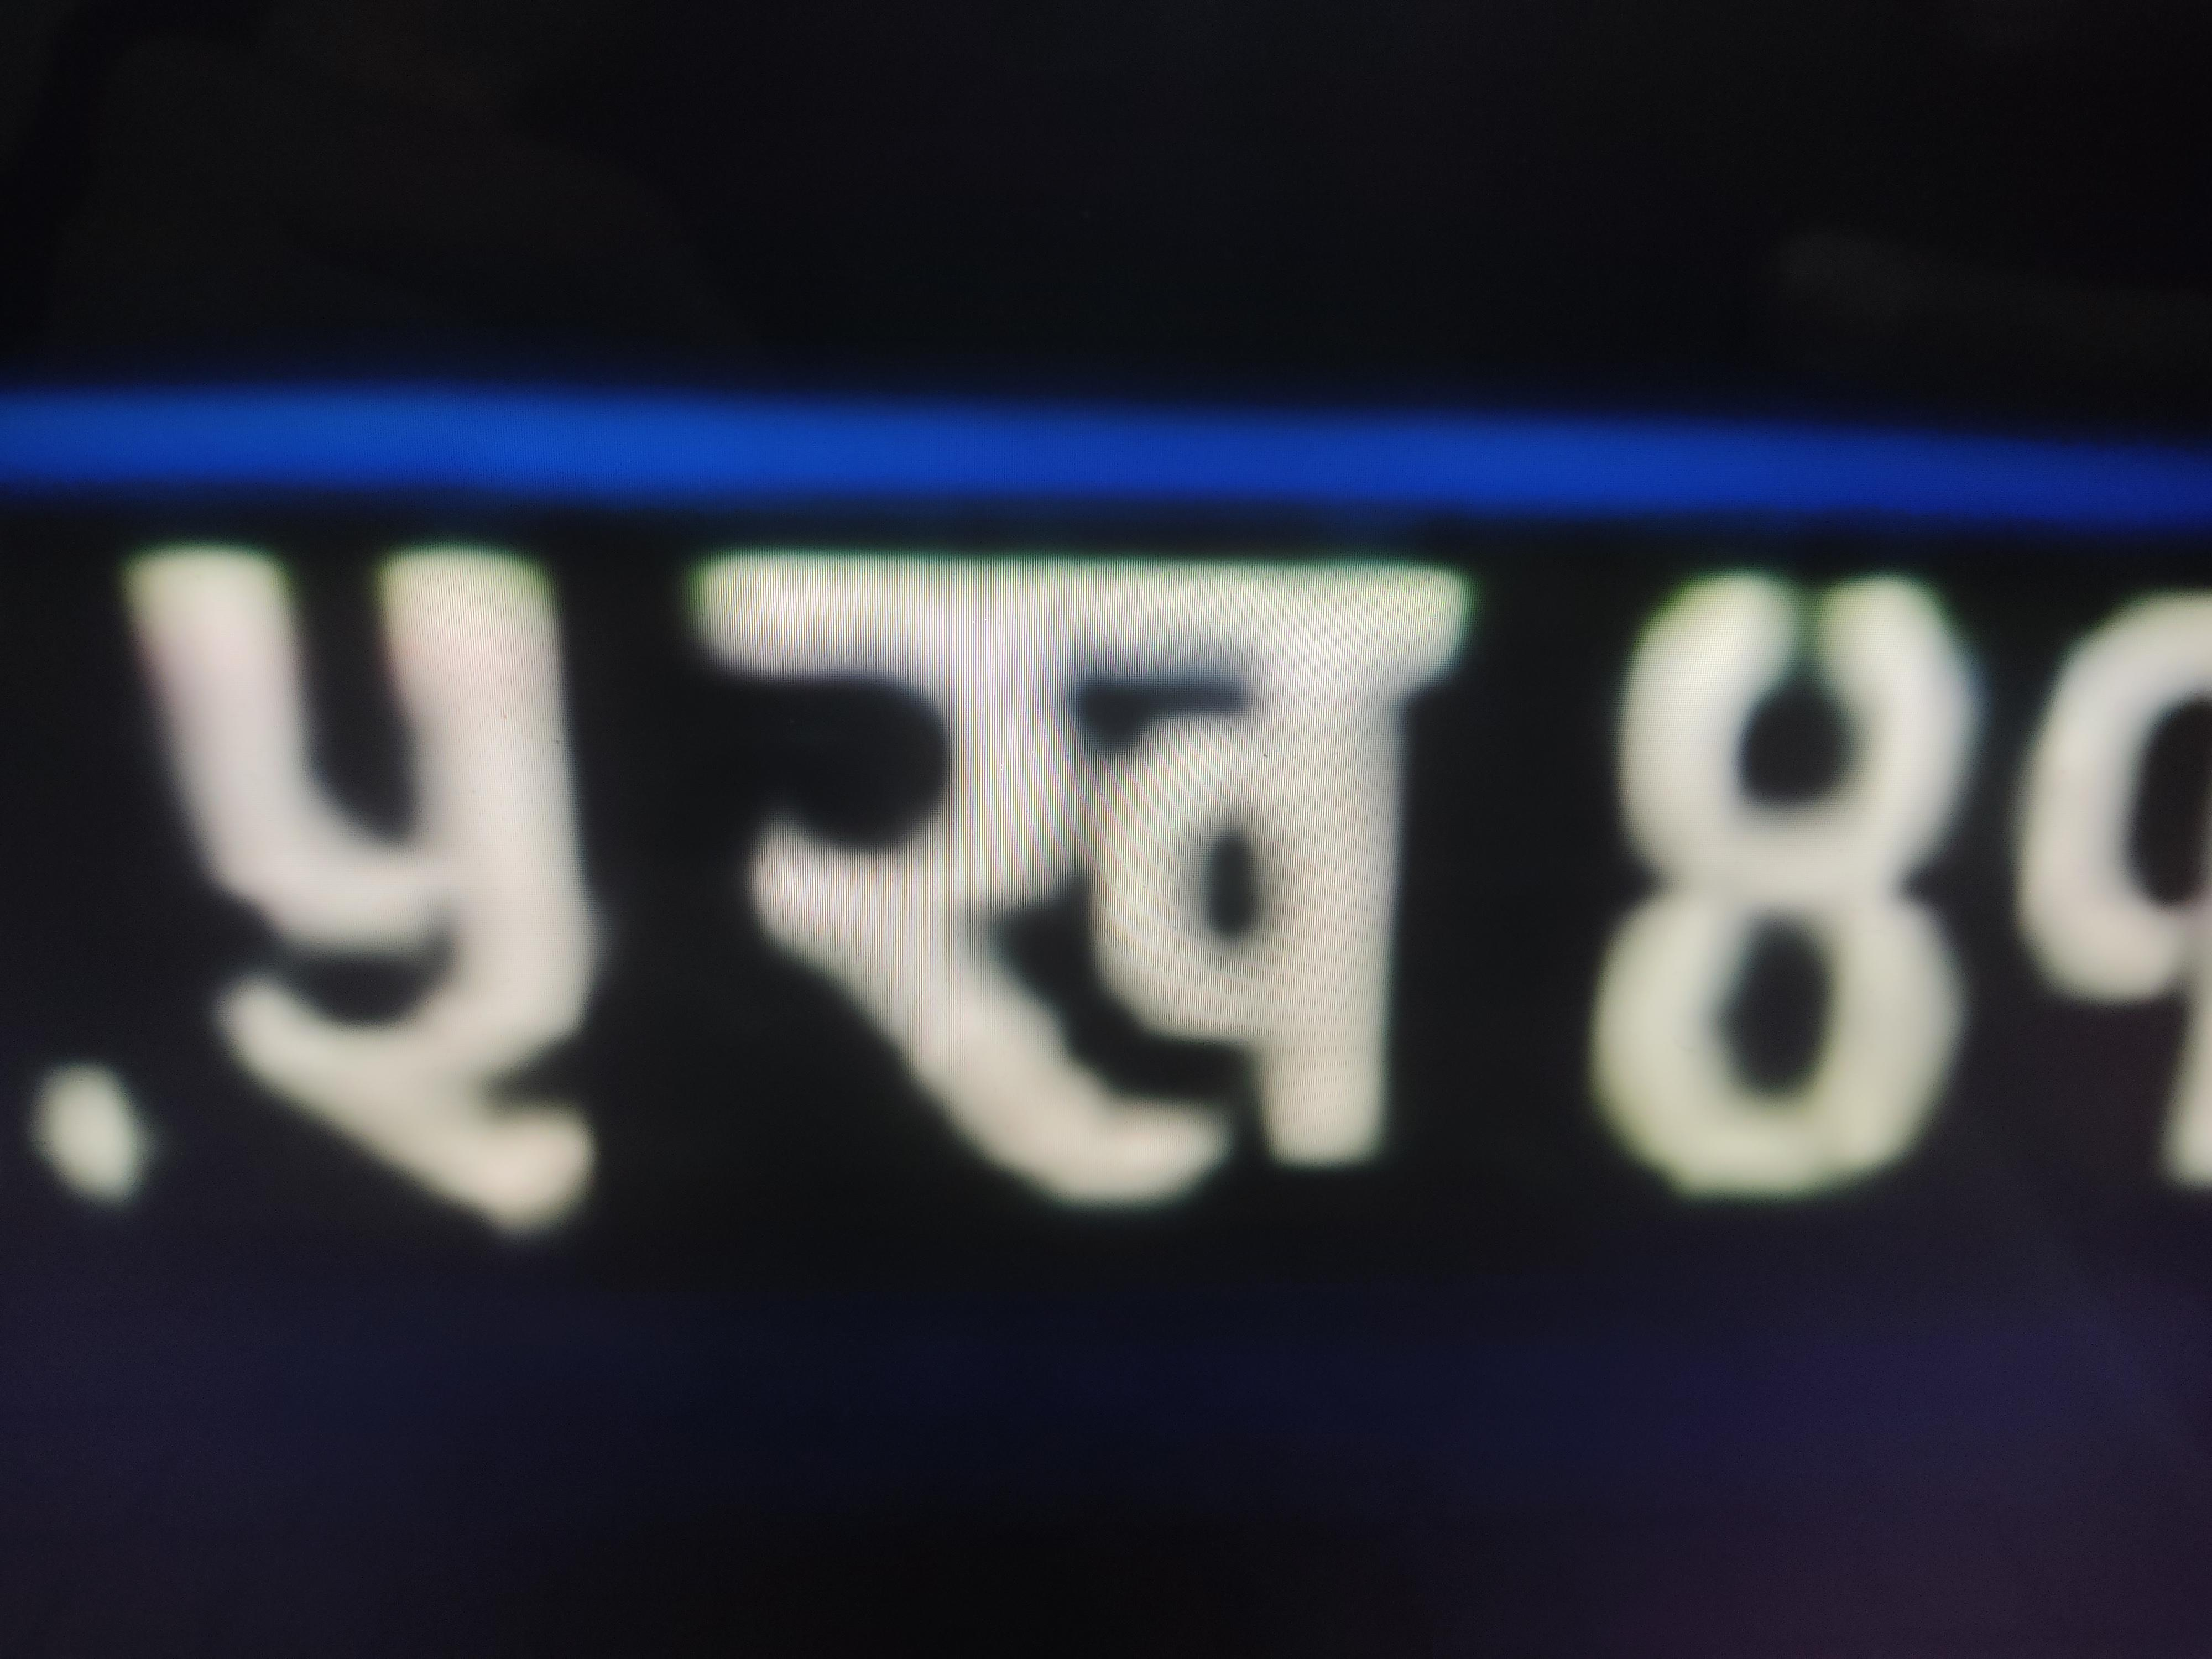1: (1960, 577, 2200, 1250)
4: (1559, 556, 2032, 1259)
5: (148, 520, 683, 1275)
kha: (700, 526, 1519, 1271)
